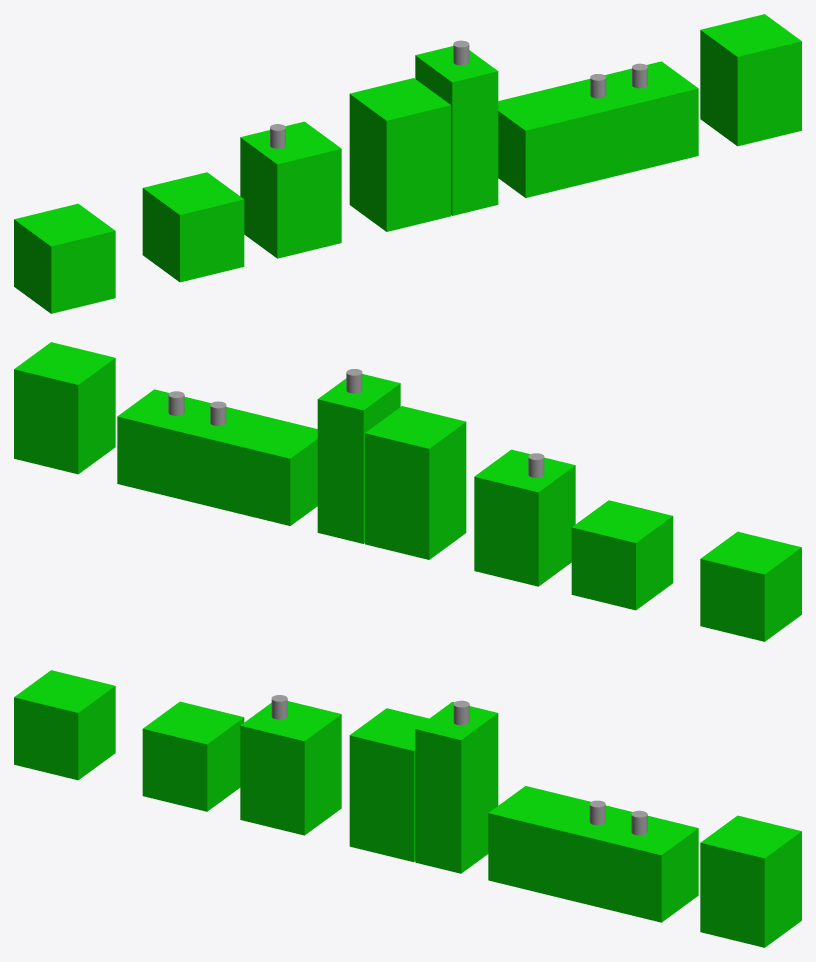
3 renders of one model, top to bottom at view 1: azimuth 30°, elevation 25°; view 2: azimuth 150°, elevation 25°; view 3: azimuth 330°, elevation 25°, orthographic.
Parts seen in each view (by area): view 1: building; view 2: building; view 3: building.
Part boxes in pixels (x1=…): building: x1=14, y1=14, x2=801, y2=313; building: x1=14, y1=342, x2=801, y2=641; building: x1=14, y1=670, x2=801, y2=947.
Bounding box in the file's own units: 11.66 × 2.25 × 1.
